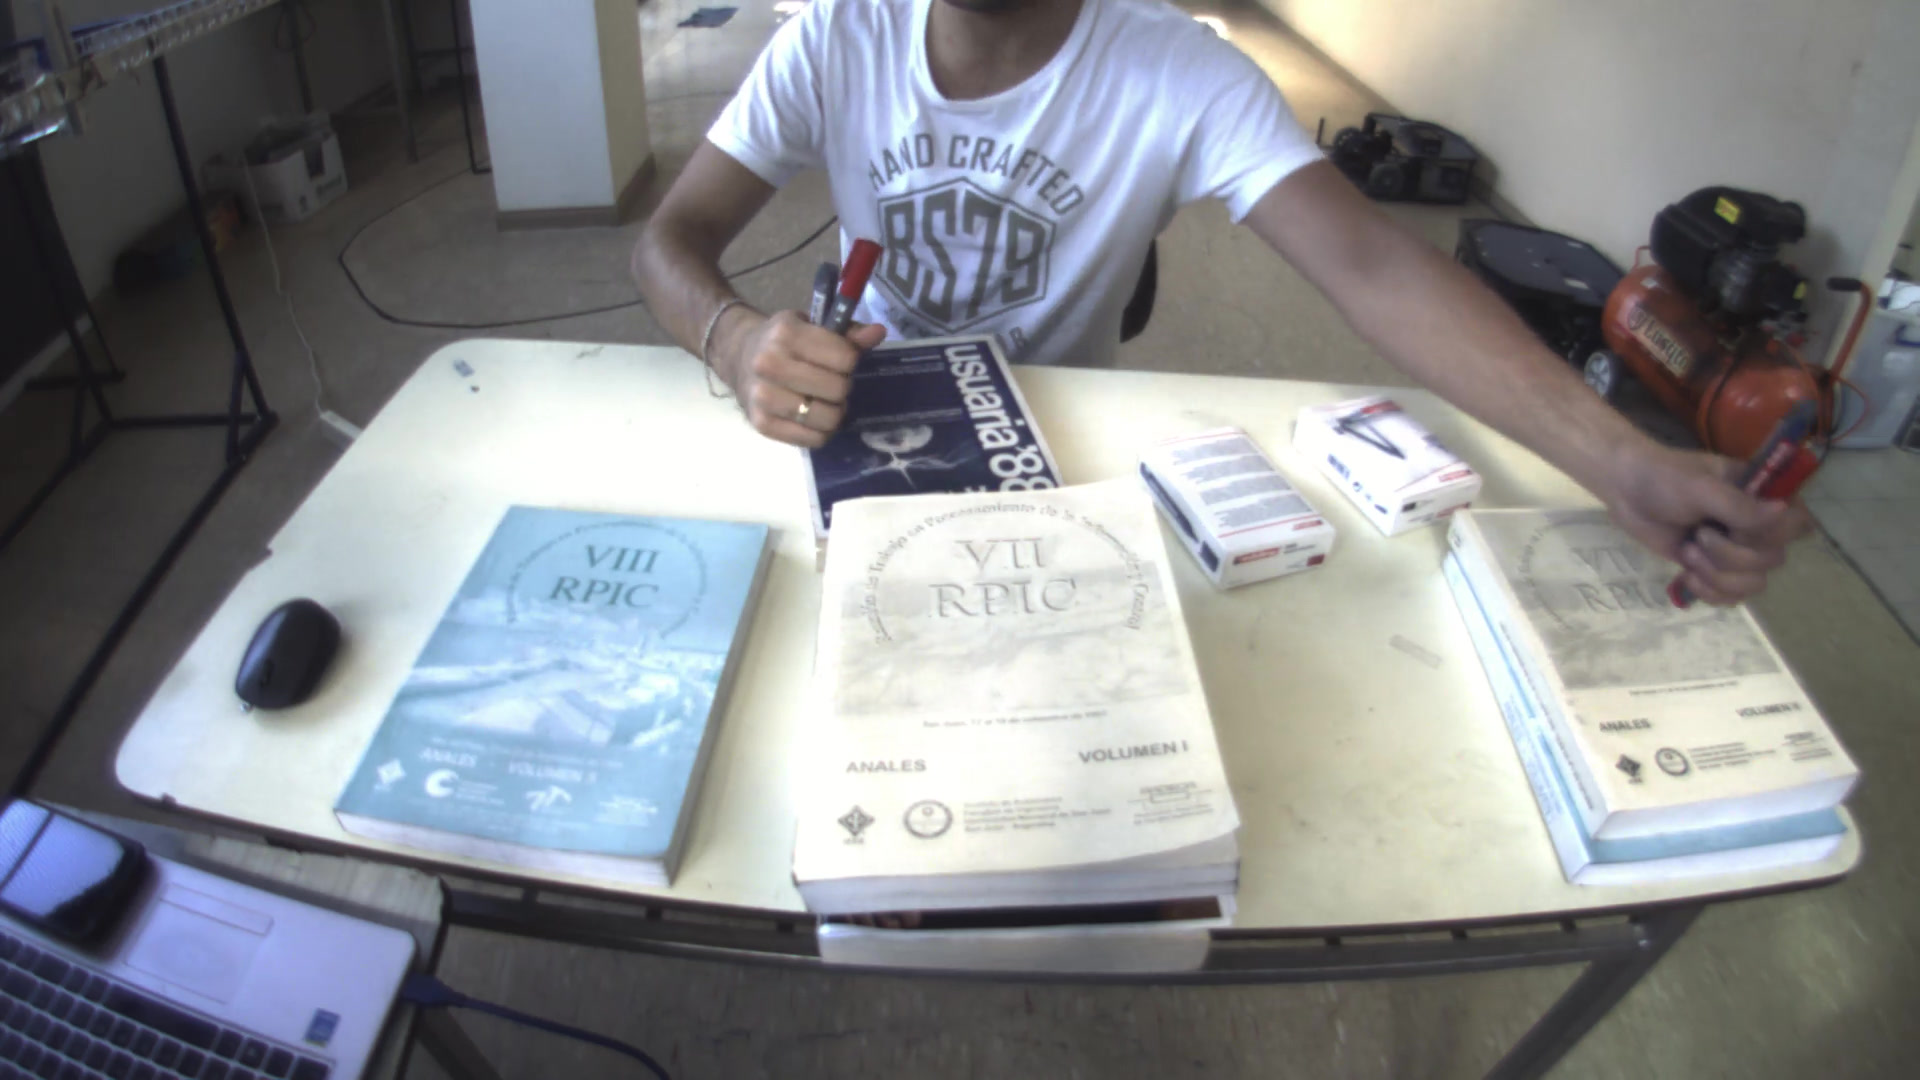hand: (1586, 436, 1822, 616), (694, 287, 894, 448)
